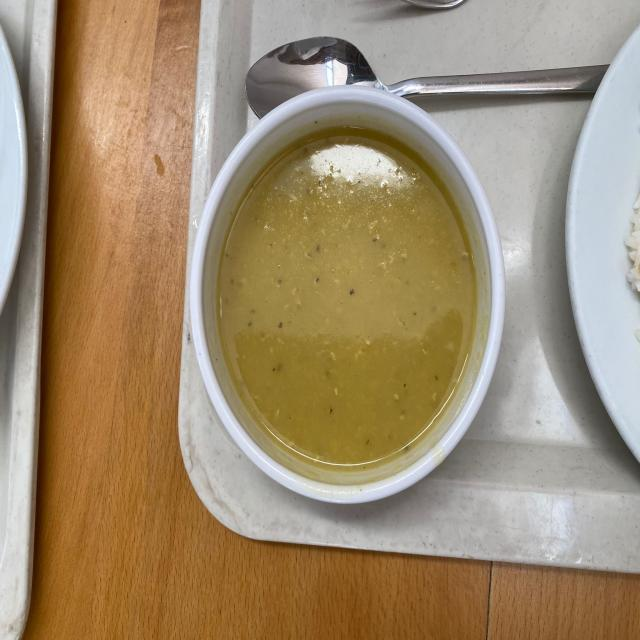corba: (189, 86, 506, 504)
